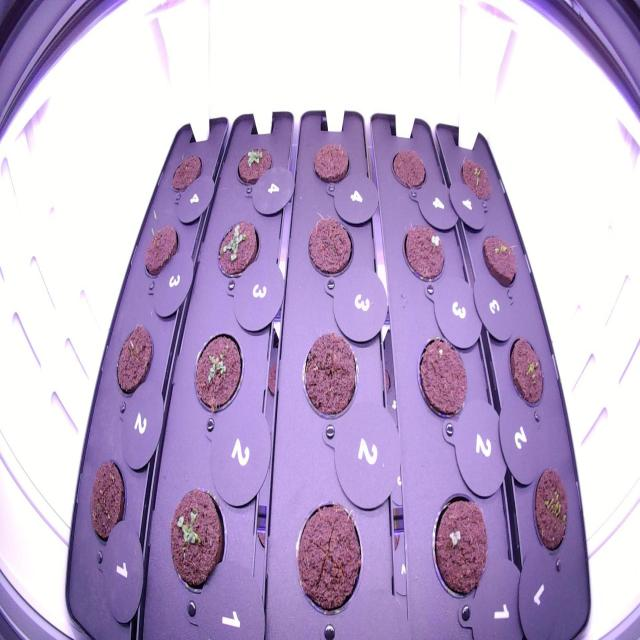germination: (164, 481, 230, 605), (426, 487, 492, 608), (412, 330, 472, 430), (189, 325, 246, 423), (527, 461, 573, 568), (395, 218, 452, 291), (210, 212, 262, 286), (138, 203, 180, 294), (505, 333, 548, 410), (479, 227, 521, 294), (456, 150, 496, 211), (232, 141, 275, 195)
pod: (289, 492, 372, 623), (296, 322, 362, 425), (85, 454, 132, 557), (301, 207, 357, 283), (111, 317, 156, 403), (308, 134, 353, 189), (386, 143, 430, 196), (167, 146, 205, 198)
